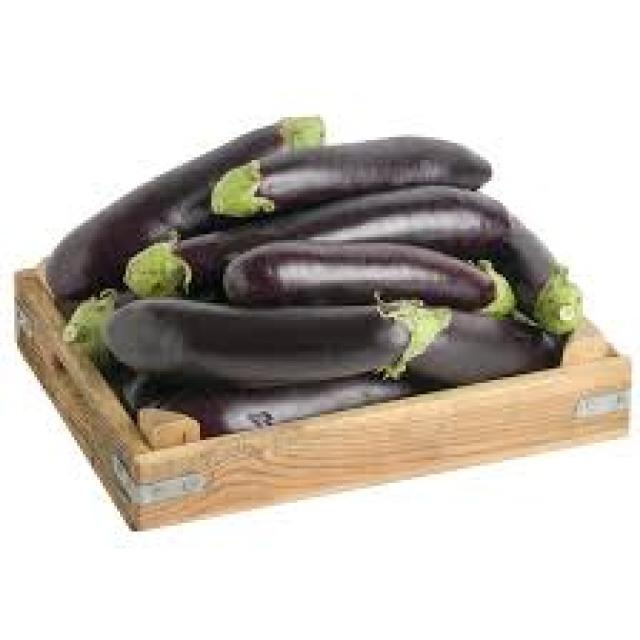eggplant: (43, 114, 317, 294), (140, 183, 506, 286), (103, 297, 420, 383), (208, 137, 492, 214), (223, 237, 526, 300)
